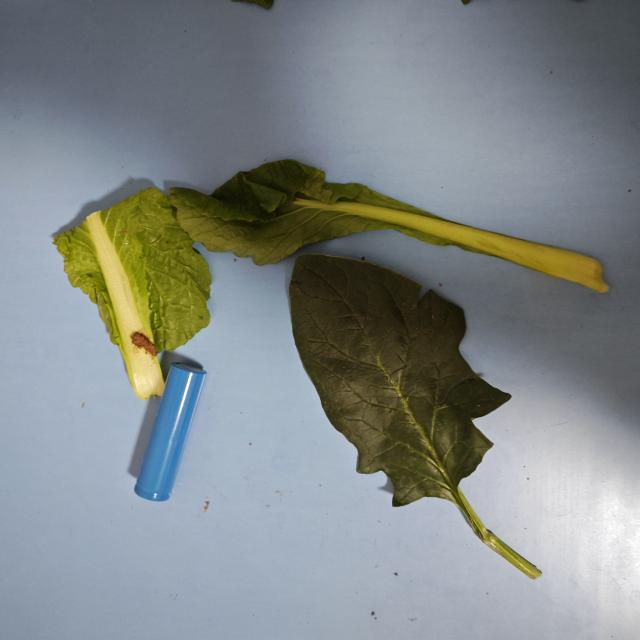-Hazardous waste - battery-: (133, 364, 204, 502)
-Kitchen waste - vegetable roots and leaves-: (291, 255, 540, 574), (171, 158, 576, 266), (51, 184, 207, 397)
